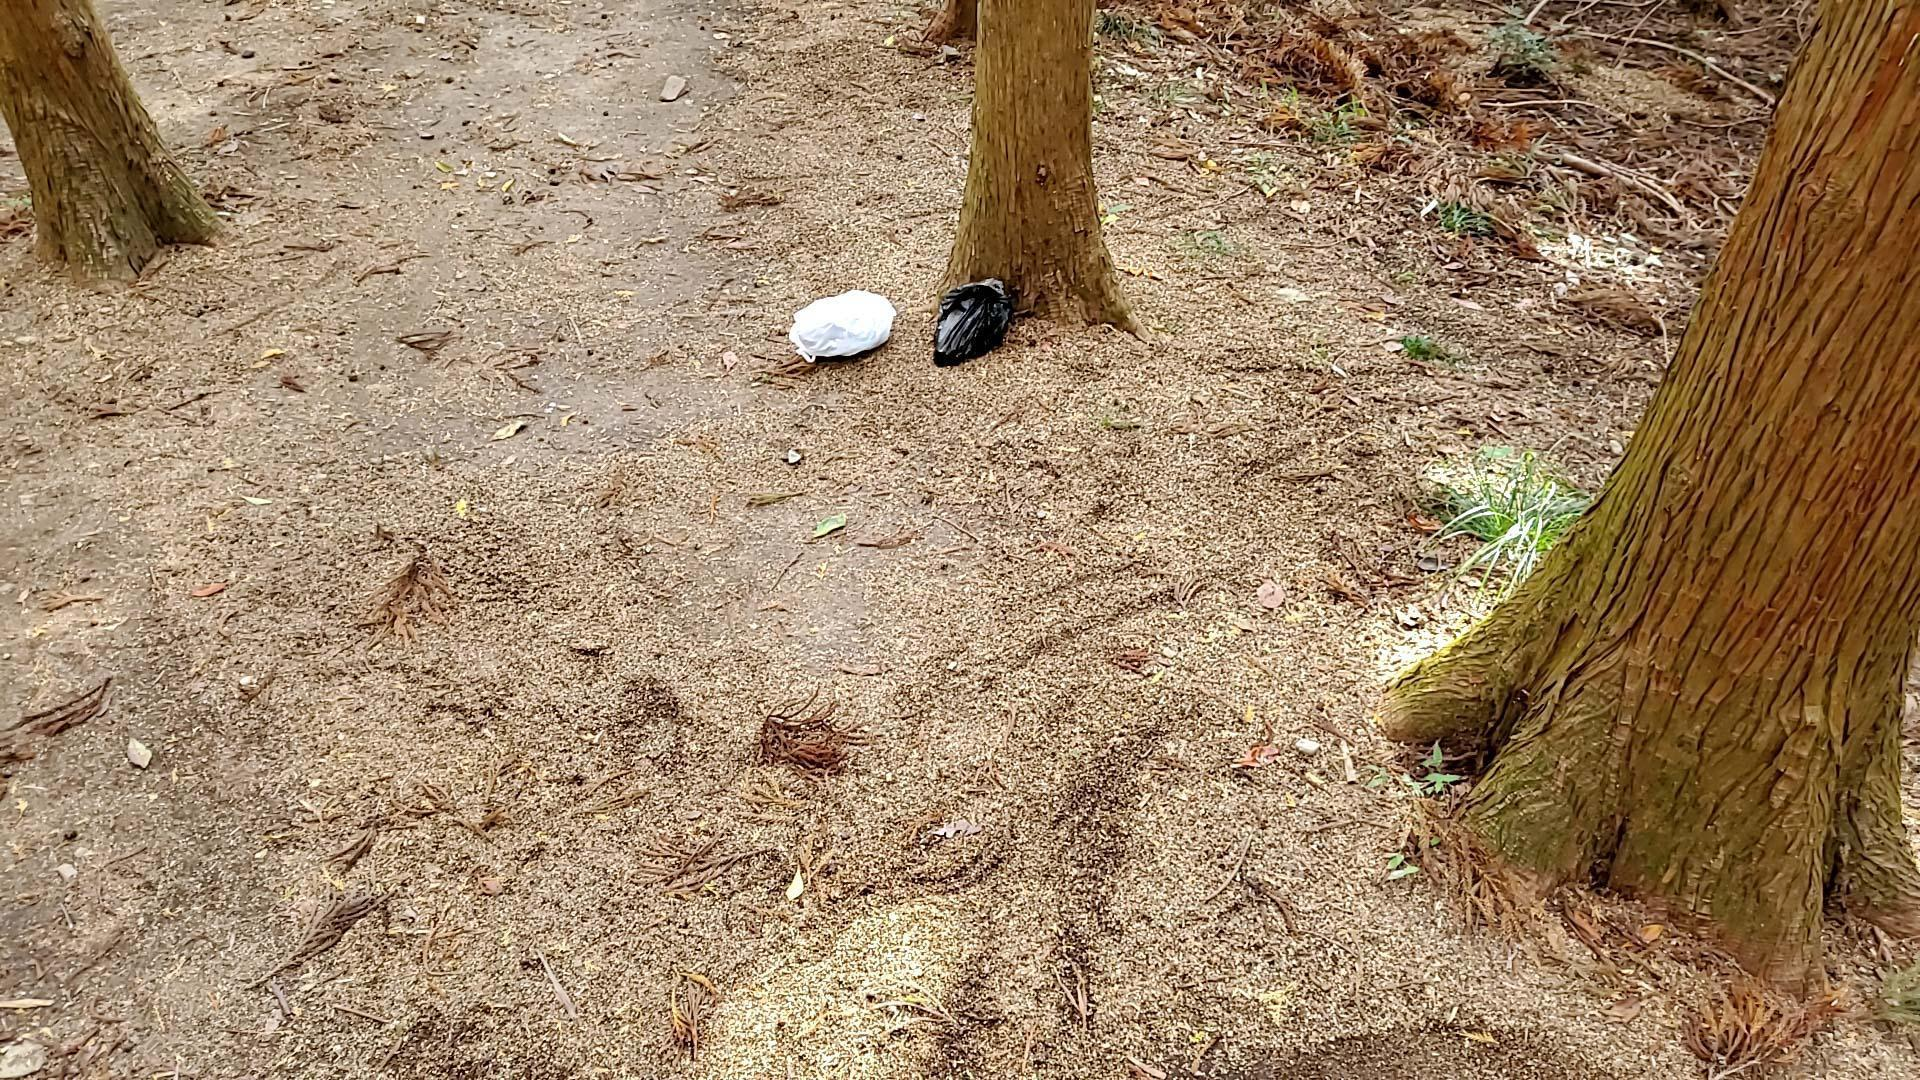black_bag: (928, 268, 1025, 373)
white_bag: (783, 285, 901, 367)
